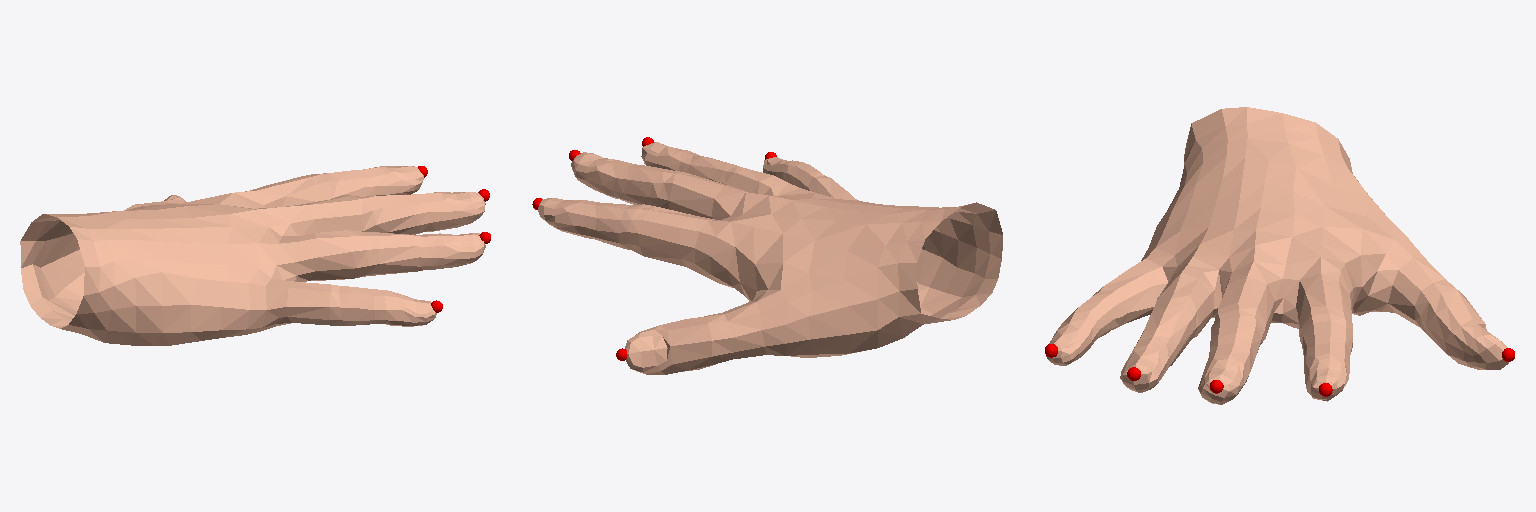
The robot description file, URDF, robot "mano_hand":
<?xml version='1.0' encoding='UTF-8'?>
<robot name="mano_hand">
  <material name="skin_color">
    <color rgba="0.95 0.75 0.65 1.0"/>
  </material>
  <material name="tip_marker_red">
    <color rgba="1.0 0.0 0.0 1.0"/>
  </material>
  <link name="base_link">
    <inertial>
      <origin xyz="0 0 0" rpy="0 0 0"/>
      <mass value="0.001"/>
      <inertia ixx="1e-6" ixy="0" ixz="0" iyy="1e-6" iyz="0" izz="1e-6"/>
    </inertial>
  </link>
  <joint name="ARTx" type="prismatic">
    <parent link="base_link"/>
    <child link="ARTx_link"/>
    <origin xyz="0 0 0" rpy="0 0 0"/>
    <axis xyz="1 0 0"/>
    <limit lower="-2.0" upper="2.0" effort="1000" velocity="100.0"/>
    <dynamics damping="1.0" friction="0.05"/>
  </joint>
  <link name="ARTx_link">
    <inertial>
      <origin xyz="0 0 0" rpy="0 0 0"/>
      <mass value="0.001"/>
      <inertia ixx="1e-6" ixy="0" ixz="0" iyy="1e-6" iyz="0" izz="1e-6"/>
    </inertial>
  </link>
  <joint name="ARTy" type="prismatic">
    <parent link="ARTx_link"/>
    <child link="ARTy_link"/>
    <origin xyz="0 0 0" rpy="0 0 0"/>
    <axis xyz="0 1 0"/>
    <limit lower="-2.0" upper="2.0" effort="1000" velocity="100.0"/>
    <dynamics damping="1.0" friction="0.05"/>
  </joint>
  <link name="ARTy_link">
    <inertial>
      <origin xyz="0 0 0" rpy="0 0 0"/>
      <mass value="0.001"/>
      <inertia ixx="1e-6" ixy="0" ixz="0" iyy="1e-6" iyz="0" izz="1e-6"/>
    </inertial>
  </link>
  <joint name="ARTz" type="prismatic">
    <parent link="ARTy_link"/>
    <child link="ARTz_link"/>
    <origin xyz="0 0 0" rpy="0 0 0"/>
    <axis xyz="0 0 1"/>
    <limit lower="-2.0" upper="2.0" effort="1000" velocity="100.0"/>
    <dynamics damping="1.0" friction="0.05"/>
  </joint>
  <link name="ARTz_link">
    <inertial>
      <origin xyz="0 0 0" rpy="0 0 0"/>
      <mass value="0.001"/>
      <inertia ixx="1e-6" ixy="0" ixz="0" iyy="1e-6" iyz="0" izz="1e-6"/>
    </inertial>
  </link>
  <joint name="ARRx" type="revolute">
    <parent link="ARTz_link"/>
    <child link="ARRx_link"/>
    <origin xyz="0 0 0" rpy="0 0 0"/>
    <axis xyz="1 0 0"/>
    <limit lower="-9.42478" upper="9.42478" effort="1000" velocity="100.0"/>
    <dynamics damping="1.0" friction="0.05"/>
  </joint>
  <link name="ARRx_link">
    <inertial>
      <origin xyz="0 0 0" rpy="0 0 0"/>
      <mass value="0.001"/>
      <inertia ixx="1e-6" ixy="0" ixz="0" iyy="1e-6" iyz="0" izz="1e-6"/>
    </inertial>
  </link>
  <joint name="ARRy" type="revolute">
    <parent link="ARRx_link"/>
    <child link="ARRy_link"/>
    <origin xyz="0 0 0" rpy="0 0 0"/>
    <axis xyz="0 1 0"/>
    <limit lower="-9.42478" upper="9.42478" effort="1000" velocity="100.0"/>
    <dynamics damping="1.0" friction="0.05"/>
  </joint>
  <link name="ARRy_link">
    <inertial>
      <origin xyz="0 0 0" rpy="0 0 0"/>
      <mass value="0.001"/>
      <inertia ixx="1e-6" ixy="0" ixz="0" iyy="1e-6" iyz="0" izz="1e-6"/>
    </inertial>
  </link>
  <joint name="ARRz" type="revolute">
    <parent link="ARRy_link"/>
    <child link="ARRz_link"/>
    <origin xyz="0 0 0" rpy="0 0 0"/>
    <axis xyz="0 0 1"/>
    <limit lower="-9.42478" upper="9.42478" effort="1000" velocity="100.0"/>
    <dynamics damping="1.0" friction="0.05"/>
  </joint>
  <link name="ARRz_link">
    <inertial>
      <origin xyz="0 0 0" rpy="0 0 0"/>
      <mass value="0.001"/>
      <inertia ixx="1e-6" ixy="0" ixz="0" iyy="1e-6" iyz="0" izz="1e-6"/>
    </inertial>
  </link>
  <joint name="palm_joint" type="fixed">
    <parent link="ARRz_link"/>
    <child link="palm"/>
    <origin xyz="0 0 0" rpy="1.5708 0 3.1416"/>
  </joint>
  <link name="palm">
    <inertial>
      <origin xyz="0 0 0" rpy="0 0 0"/>
      <mass value="0.02"/>
      <inertia ixx="1e-4" ixy="0" ixz="0" iyy="1e-4" iyz="0" izz="1e-4"/>
    </inertial>
    <visual>
      <geometry>
        <mesh filename="meshes/visual_palm.stl"/>
      </geometry>
      <material name="skin_color"/>
    </visual>
    <collision>
      <geometry>
        <mesh filename="meshes/palm.stl" scale="0.7 0.7 0.7"/>
      </geometry>
    </collision>
  </link>
  <joint name="j1_thumb_cmc_abd" type="revolute">
    <parent link="palm"/>
    <child link="thumb_cmc_abd"/>
    <origin xyz="-0.02393882 -0.015321283 0.025400128" rpy="0 0 0"/>
    <axis xyz="0.13214761 0.9558983 0.26228896"/>
    <limit lower="-1.175" upper="2.621" effort="100.0" velocity="100.0"/>
  </joint>
  <link name="thumb_cmc_abd">
    <inertial>
      <origin xyz="0 0 0" rpy="0 0 0"/>
      <mass value="0.001"/>
      <inertia ixx="1e-6" ixy="0" ixz="0" iyy="1e-6" iyz="0" izz="1e-6"/>
    </inertial>
  </link>
  <joint name="j1_thumb_cmc_flex" type="revolute">
    <parent link="thumb_cmc_abd"/>
    <child link="thumb_cmc"/>
    <origin xyz="0 0 0" rpy="0 0 0"/>
    <axis xyz="0.98433405 -0.15770914 0.07883098"/>
    <limit lower="-2.0" upper="1.97" effort="100.0" velocity="100.0"/>
  </joint>
  <link name="thumb_cmc">
    <inertial>
      <origin xyz="0 0 0" rpy="0 0 0"/>
      <mass value="0.01"/>
      <inertia ixx="1e-5" ixy="0" ixz="0" iyy="1e-5" iyz="0" izz="1e-5"/>
    </inertial>
    <visual>
      <geometry>
        <mesh filename="meshes/visual_thumb1.stl"/>
      </geometry>
      <material name="skin_color"/>
    </visual>
    <collision>
      <geometry>
        <mesh filename="meshes/thumb1.stl"/>
      </geometry>
    </collision>
  </link>
  <joint name="j1_thumb_mcp" type="revolute">
    <parent link="thumb_cmc"/>
    <child link="thumb_mcp"/>
    <origin xyz="-0.019642167 0.0007150201 0.023463652" rpy="0 0 0"/>
    <axis xyz="0.37349474660354226 -0.8767273735792721 0.30306894706707793"/>
    <limit lower="0.0" upper="1.745" effort="100.0" velocity="100.0"/>
  </joint>
  <link name="thumb_mcp">
    <inertial>
      <origin xyz="0 0 0" rpy="0 0 0"/>
      <mass value="0.01"/>
      <inertia ixx="1e-5" ixy="0" ixz="0" iyy="1e-5" iyz="0" izz="1e-5"/>
    </inertial>
    <visual>
      <geometry>
        <mesh filename="meshes/visual_thumb2.stl"/>
      </geometry>
      <material name="skin_color"/>
    </visual>
    <collision>
      <geometry>
        <mesh filename="meshes/thumb2.stl"/>
      </geometry>
    </collision>
  </link>
  <joint name="j1_thumb_ip" type="revolute">
    <parent link="thumb_mcp"/>
    <child link="thumb_ip"/>
    <origin xyz="-0.02210306 -0.0053673424 0.0145237595" rpy="0 0 0"/>
    <axis xyz="0.37349474660354226 -0.8767273735792721 0.30306894706707793"/>
    <limit lower="0.0" upper="1.745" effort="100.0" velocity="100.0"/>
  </joint>
  <link name="thumb_ip">
    <inertial>
      <origin xyz="0 0 0" rpy="0 0 0"/>
      <mass value="0.01"/>
      <inertia ixx="1e-5" ixy="0" ixz="0" iyy="1e-5" iyz="0" izz="1e-5"/>
    </inertial>
    <visual>
      <geometry>
        <mesh filename="meshes/visual_thumb3.stl"/>
      </geometry>
      <material name="skin_color"/>
    </visual>
    <visual>
      <origin xyz="-0.0259852111 -0.00269475952 0.0237645283" rpy="0 0 0"/>
      <geometry>
        <sphere radius="0.0025"/>
      </geometry>
      <material name="tip_marker_red"/>
    </visual>
    <collision>
      <geometry>
        <mesh filename="meshes/thumb3.stl"/>
      </geometry>
    </collision>
  </link>
  <joint name="j2_index_mcp_abd" type="revolute">
    <parent link="palm"/>
    <child link="index_mcp_abd"/>
    <origin xyz="-0.087390065 -0.00515518 0.020318598" rpy="0 0 0"/>
    <axis xyz="0.056868146016383125 -0.9983816975328921 0.0"/>
    <limit lower="-0.349" upper="0.349" effort="100.0" velocity="100.0"/>
  </joint>
  <link name="index_mcp_abd">
    <inertial>
      <origin xyz="0 0 0" rpy="0 0 0"/>
      <mass value="0.001"/>
      <inertia ixx="1e-6" ixy="0" ixz="0" iyy="1e-6" iyz="0" izz="1e-6"/>
    </inertial>
  </link>
  <joint name="j2_index_mcp_flex" type="revolute">
    <parent link="index_mcp_abd"/>
    <child link="index_mcp"/>
    <origin xyz="0 0 0" rpy="0 0 0"/>
    <axis xyz="-0.0030011760820092275 -0.00017094796516635316 0.9999954818492521"/>
    <limit lower="-0.175" upper="1.571" effort="100.0" velocity="100.0"/>
  </joint>
  <link name="index_mcp">
    <inertial>
      <origin xyz="0 0 0" rpy="0 0 0"/>
      <mass value="0.01"/>
      <inertia ixx="1e-5" ixy="0" ixz="0" iyy="1e-5" iyz="0" izz="1e-5"/>
    </inertial>
    <visual>
      <geometry>
        <mesh filename="meshes/visual_index1.stl"/>
      </geometry>
      <material name="skin_color"/>
    </visual>
    <collision>
      <geometry>
        <mesh filename="meshes/index1.stl"/>
      </geometry>
    </collision>
  </link>
  <joint name="j2_index_pip" type="revolute">
    <parent link="index_mcp"/>
    <child link="index_pip"/>
    <origin xyz="-0.032553315 0.0040858695 0.002195783" rpy="0 0 0"/>
    <axis xyz="-0.0030011760820092275 -0.00017094796516635316 0.9999954818492521"/>
    <limit lower="0.0" upper="1.745" effort="100.0" velocity="100.0"/>
  </joint>
  <link name="index_pip">
    <inertial>
      <origin xyz="0 0 0" rpy="0 0 0"/>
      <mass value="0.01"/>
      <inertia ixx="1e-5" ixy="0" ixz="0" iyy="1e-5" iyz="0" izz="1e-5"/>
    </inertial>
    <visual>
      <geometry>
        <mesh filename="meshes/visual_index2.stl"/>
      </geometry>
      <material name="skin_color"/>
    </visual>
    <collision>
      <geometry>
        <mesh filename="meshes/index2.stl"/>
      </geometry>
    </collision>
  </link>
  <joint name="j2_index_dip" type="revolute">
    <parent link="index_pip"/>
    <child link="index_dip"/>
    <origin xyz="-0.022098027 -0.0012587109 -6.653555e-05" rpy="0 0 0"/>
    <axis xyz="-0.0030011760820092275 -0.00017094796516635316 0.9999954818492521"/>
    <limit lower="0.0" upper="1.745" effort="100.0" velocity="100.0"/>
  </joint>
  <link name="index_dip">
    <inertial>
      <origin xyz="0 0 0" rpy="0 0 0"/>
      <mass value="0.01"/>
      <inertia ixx="1e-5" ixy="0" ixz="0" iyy="1e-5" iyz="0" izz="1e-5"/>
    </inertial>
    <visual>
      <geometry>
        <mesh filename="meshes/visual_index3.stl"/>
      </geometry>
      <material name="skin_color"/>
    </visual>
    <visual>
      <origin xyz="-0.0254385844 0.00128195668 -0.000492764637" rpy="0 0 0"/>
      <geometry>
        <sphere radius="0.0025"/>
      </geometry>
      <material name="tip_marker_red"/>
    </visual>
    <collision>
      <geometry>
        <mesh filename="meshes/index3.stl"/>
      </geometry>
    </collision>
  </link>
  <joint name="j3_middle_mcp_abd" type="revolute">
    <parent link="palm"/>
    <child link="middle_mcp_abd"/>
    <origin xyz="-0.093885034 -0.0015335456 -0.003394617" rpy="0 0 0"/>
    <axis xyz="0.0558525 -0.9982943 -0.017003164"/>
    <limit lower="-0.524" upper="0.349" effort="100.0" velocity="100.0"/>
  </joint>
  <link name="middle_mcp_abd">
    <inertial>
      <origin xyz="0 0 0" rpy="0 0 0"/>
      <mass value="0.001"/>
      <inertia ixx="1e-6" ixy="0" ixz="0" iyy="1e-6" iyz="0" izz="1e-6"/>
    </inertial>
  </link>
  <joint name="j3_middle_mcp_flex" type="revolute">
    <parent link="middle_mcp_abd"/>
    <child link="middle_mcp"/>
    <origin xyz="0 0 0" rpy="0 0 0"/>
    <axis xyz="-0.16552447 -0.026052156 0.98586154"/>
    <limit lower="-0.175" upper="1.571" effort="100.0" velocity="100.0"/>
  </joint>
  <link name="middle_mcp">
    <inertial>
      <origin xyz="0 0 0" rpy="0 0 0"/>
      <mass value="0.01"/>
      <inertia ixx="1e-5" ixy="0" ixz="0" iyy="1e-5" iyz="0" izz="1e-5"/>
    </inertial>
    <visual>
      <geometry>
        <mesh filename="meshes/visual_middle1.stl"/>
      </geometry>
      <material name="skin_color"/>
    </visual>
    <collision>
      <geometry>
        <mesh filename="meshes/middle1.stl"/>
      </geometry>
    </collision>
  </link>
  <joint name="j3_middle_pip" type="revolute">
    <parent link="middle_mcp"/>
    <child link="middle_pip"/>
    <origin xyz="-0.03103862 0.0018664142 -0.0055207517" rpy="0 0 0"/>
    <axis xyz="-0.16552447 -0.026052156 0.98586154"/>
    <limit lower="0.0" upper="1.745" effort="100.0" velocity="100.0"/>
  </joint>
  <link name="middle_pip">
    <inertial>
      <origin xyz="0 0 0" rpy="0 0 0"/>
      <mass value="0.01"/>
      <inertia ixx="1e-5" ixy="0" ixz="0" iyy="1e-5" iyz="0" izz="1e-5"/>
    </inertial>
    <visual>
      <geometry>
        <mesh filename="meshes/visual_middle2.stl"/>
      </geometry>
      <material name="skin_color"/>
    </visual>
    <collision>
      <geometry>
        <mesh filename="meshes/middle2.stl"/>
      </geometry>
    </collision>
  </link>
  <joint name="j3_middle_dip" type="revolute">
    <parent link="middle_pip"/>
    <child link="middle_dip"/>
    <origin xyz="-0.02283096 -0.0012115105 -0.003865294" rpy="0 0 0"/>
    <axis xyz="-0.16552447 -0.026052156 0.98586154"/>
    <limit lower="0.0" upper="1.745" effort="100.0" velocity="100.0"/>
  </joint>
  <link name="middle_dip">
    <inertial>
      <origin xyz="0 0 0" rpy="0 0 0"/>
      <mass value="0.01"/>
      <inertia ixx="1e-5" ixy="0" ixz="0" iyy="1e-5" iyz="0" izz="1e-5"/>
    </inertial>
    <visual>
      <geometry>
        <mesh filename="meshes/visual_middle3.stl"/>
      </geometry>
      <material name="skin_color"/>
    </visual>
    <visual>
      <origin xyz="-0.0256282948 0.00384644186 -0.00410285778" rpy="0 0 0"/>
      <geometry>
        <sphere radius="0.0025"/>
      </geometry>
      <material name="tip_marker_red"/>
    </visual>
    <collision>
      <geometry>
        <mesh filename="meshes/middle3.stl"/>
      </geometry>
    </collision>
  </link>
  <joint name="j4_ring_mcp_abd" type="revolute">
    <parent link="palm"/>
    <child link="ring_mcp_abd"/>
    <origin xyz="-0.081061505 -0.00400615 -0.026355308" rpy="0 0 0"/>
    <axis xyz="0.029911317 -0.99189115 0.12352082"/>
    <limit lower="-0.524" upper="0.349" effort="100.0" velocity="100.0"/>
  </joint>
  <link name="ring_mcp_abd">
    <inertial>
      <origin xyz="0 0 0" rpy="0 0 0"/>
      <mass value="0.001"/>
      <inertia ixx="1e-6" ixy="0" ixz="0" iyy="1e-6" iyz="0" izz="1e-6"/>
    </inertial>
  </link>
  <joint name="j4_ring_mcp_flex" type="revolute">
    <parent link="ring_mcp_abd"/>
    <child link="ring_mcp"/>
    <origin xyz="0 0 0" rpy="0 0 0"/>
    <axis xyz="-0.31203434 0.10813442 0.943897"/>
    <limit lower="-0.175" upper="1.571" effort="100.0" velocity="100.0"/>
  </joint>
  <link name="ring_mcp">
    <inertial>
      <origin xyz="0 0 0" rpy="0 0 0"/>
      <mass value="0.01"/>
      <inertia ixx="1e-5" ixy="0" ixz="0" iyy="1e-5" iyz="0" izz="1e-5"/>
    </inertial>
    <visual>
      <geometry>
        <mesh filename="meshes/visual_ring1.stl"/>
      </geometry>
      <material name="skin_color"/>
    </visual>
    <collision>
      <geometry>
        <mesh filename="meshes/ring1.stl"/>
      </geometry>
    </collision>
  </link>
  <joint name="j4_ring_pip" type="revolute">
    <parent link="ring_mcp"/>
    <child link="ring_pip"/>
    <origin xyz="-0.028162489 0.0020270143 -0.0050798096" rpy="0 0 0"/>
    <axis xyz="-0.31203434 0.10813442 0.943897"/>
    <limit lower="0.0" upper="1.745" effort="100.0" velocity="100.0"/>
  </joint>
  <link name="ring_pip">
    <inertial>
      <origin xyz="0 0 0" rpy="0 0 0"/>
      <mass value="0.01"/>
      <inertia ixx="1e-5" ixy="0" ixz="0" iyy="1e-5" iyz="0" izz="1e-5"/>
    </inertial>
    <visual>
      <geometry>
        <mesh filename="meshes/visual_ring2.stl"/>
      </geometry>
      <material name="skin_color"/>
    </visual>
    <collision>
      <geometry>
        <mesh filename="meshes/ring2.stl"/>
      </geometry>
    </collision>
  </link>
  <joint name="j4_ring_dip" type="revolute">
    <parent link="ring_pip"/>
    <child link="ring_dip"/>
    <origin xyz="-0.023458725 -0.0016496193 -0.0075660236" rpy="0 0 0"/>
    <axis xyz="-0.31203434 0.10813442 0.943897"/>
    <limit lower="0.0" upper="1.745" effort="100.0" velocity="100.0"/>
  </joint>
  <link name="ring_dip">
    <inertial>
      <origin xyz="0 0 0" rpy="0 0 0"/>
      <mass value="0.01"/>
      <inertia ixx="1e-5" ixy="0" ixz="0" iyy="1e-5" iyz="0" izz="1e-5"/>
    </inertial>
    <visual>
      <geometry>
        <mesh filename="meshes/visual_ring3.stl"/>
      </geometry>
      <material name="skin_color"/>
    </visual>
    <visual>
      <origin xyz="-0.0243661776 0.00387226394 -0.00732583553" rpy="0 0 0"/>
      <geometry>
        <sphere radius="0.0025"/>
      </geometry>
      <material name="tip_marker_red"/>
    </visual>
    <collision>
      <geometry>
        <mesh filename="meshes/ring3.stl"/>
      </geometry>
    </collision>
  </link>
  <joint name="j5_pinky_mcp_abd" type="revolute">
    <parent link="palm"/>
    <child link="pinky_mcp_abd"/>
    <origin xyz="-0.06825912 -0.009817436 -0.04267642" rpy="0 0 0"/>
    <axis xyz="-0.12065165 -0.9613095 0.24764341"/>
    <limit lower="-0.698" upper="0.349" effort="100.0" velocity="100.0"/>
  </joint>
  <link name="pinky_mcp_abd">
    <inertial>
      <origin xyz="0 0 0" rpy="0 0 0"/>
      <mass value="0.001"/>
      <inertia ixx="1e-6" ixy="0" ixz="0" iyy="1e-6" iyz="0" izz="1e-6"/>
    </inertial>
  </link>
  <joint name="j5_pinky_mcp_flex" type="revolute">
    <parent link="pinky_mcp_abd"/>
    <child link="pinky_mcp"/>
    <origin xyz="0 0 0" rpy="0 0 0"/>
    <axis xyz="-0.5342949 0.27313465 0.79995406"/>
    <limit lower="-0.175" upper="1.571" effort="100.0" velocity="100.0"/>
  </joint>
  <link name="pinky_mcp">
    <inertial>
      <origin xyz="0 0 0" rpy="0 0 0"/>
      <mass value="0.01"/>
      <inertia ixx="1e-5" ixy="0" ixz="0" iyy="1e-5" iyz="0" izz="1e-5"/>
    </inertial>
    <visual>
      <geometry>
        <mesh filename="meshes/visual_pinky1.stl"/>
      </geometry>
      <material name="skin_color"/>
    </visual>
    <collision>
      <geometry>
        <mesh filename="meshes/pinky1.stl"/>
      </geometry>
    </collision>
  </link>
  <joint name="j5_pinky_pip" type="revolute">
    <parent link="pinky_mcp"/>
    <child link="pinky_pip"/>
    <origin xyz="-0.016888633 0.00015343493 -0.012444343" rpy="0 0 0"/>
    <axis xyz="-0.5342949 0.27313465 0.79995406"/>
    <limit lower="0.0" upper="1.745" effort="100.0" velocity="100.0"/>
  </joint>
  <link name="pinky_pip">
    <inertial>
      <origin xyz="0 0 0" rpy="0 0 0"/>
      <mass value="0.01"/>
      <inertia ixx="1e-5" ixy="0" ixz="0" iyy="1e-5" iyz="0" izz="1e-5"/>
    </inertial>
    <visual>
      <geometry>
        <mesh filename="meshes/visual_pinky2.stl"/>
      </geometry>
      <material name="skin_color"/>
    </visual>
    <collision>
      <geometry>
        <mesh filename="meshes/pinky2.stl"/>
      </geometry>
    </collision>
  </link>
  <joint name="j5_pinky_dip" type="revolute">
    <parent link="pinky_pip"/>
    <child link="pinky_dip"/>
    <origin xyz="-0.015772328 -0.0006748764 -0.010304019" rpy="0 0 0"/>
    <axis xyz="-0.5342949 0.27313465 0.79995406"/>
    <limit lower="0.0" upper="1.745" effort="100.0" velocity="100.0"/>
  </joint>
  <link name="pinky_dip">
    <inertial>
      <origin xyz="0 0 0" rpy="0 0 0"/>
      <mass value="0.01"/>
      <inertia ixx="1e-5" ixy="0" ixz="0" iyy="1e-5" iyz="0" izz="1e-5"/>
    </inertial>
    <visual>
      <geometry>
        <mesh filename="meshes/visual_pinky3.stl"/>
      </geometry>
      <material name="skin_color"/>
    </visual>
    <visual>
      <origin xyz="-0.0170507431 0.00156009989 -0.0103180707" rpy="0 0 0"/>
      <geometry>
        <sphere radius="0.0025"/>
      </geometry>
      <material name="tip_marker_red"/>
    </visual>
    <collision>
      <geometry>
        <mesh filename="meshes/pinky3.stl"/>
      </geometry>
    </collision>
  </link>
</robot>

--- What the picture shows (computed from the rendered views, not written in the file) ---
The picture shows the robot from 3 angles, left to right: view 1: azimuth 30°, elevation 25°; view 2: azimuth 150°, elevation 25°; view 3: azimuth 270°, elevation 25°; orthographic projection.
Model mano_hand with 28 links and 27 joints (23 revolute, 3 prismatic, 1 fixed), rooted at base_link, posed every joint at zero.
Visible links, largest first — view 1: palm, ring_mcp, middle_mcp, pinky_mcp, ring_pip, thumb_cmc, middle_dip, middle_pip, ring_dip, index_mcp, pinky_pip, index_dip (+2 smaller); view 2: palm, thumb_cmc, thumb_mcp, thumb_ip, index_mcp, middle_mcp, index_pip, middle_dip, index_dip, middle_pip, ring_mcp, ring_dip (+3 smaller); view 3: palm, thumb_ip, thumb_mcp, middle_mcp, ring_mcp, index_mcp, middle_dip, index_dip, pinky_mcp, ring_pip, ring_dip, pinky_dip (+3 smaller).
Boxes of the visible links, box(x1,y1,x2,y2) form: palm: box(20, 191, 296, 345); ring_mcp: box(277, 230, 365, 281); middle_mcp: box(279, 196, 381, 235); pinky_mcp: box(266, 278, 343, 325); ring_pip: box(356, 231, 431, 277); thumb_cmc: box(41, 228, 84, 310); middle_dip: box(415, 189, 489, 231); middle_pip: box(373, 194, 430, 234); ring_dip: box(422, 232, 490, 269); index_mcp: box(245, 174, 332, 207); pinky_pip: box(333, 285, 396, 325); index_dip: box(362, 166, 427, 195); palm: box(695, 188, 1002, 347); thumb_cmc: box(781, 274, 877, 357); thumb_mcp: box(707, 290, 787, 364); thumb_ip: box(616, 316, 714, 374); index_mcp: box(628, 204, 715, 274); middle_mcp: box(650, 172, 748, 219); index_pip: box(581, 203, 643, 250); middle_dip: box(569, 150, 633, 198); index_dip: box(532, 198, 599, 237); middle_pip: box(608, 164, 679, 206); ring_mcp: box(725, 166, 799, 195); ring_dip: box(641, 137, 699, 170); palm: box(1131, 107, 1393, 327); thumb_ip: box(1421, 289, 1514, 369); thumb_mcp: box(1368, 236, 1455, 333); middle_mcp: box(1211, 261, 1295, 343); ring_mcp: box(1155, 257, 1223, 338); index_mcp: box(1283, 271, 1352, 341); middle_dip: box(1198, 343, 1251, 404); index_dip: box(1304, 342, 1349, 401); pinky_mcp: box(1093, 267, 1167, 329); ring_pip: box(1134, 299, 1196, 365); ring_dip: box(1120, 336, 1172, 392); pinky_dip: box(1045, 314, 1095, 365).
Bounding box of the posed robot: 0.1941 × 0.1679 × 0.0607 m (x, y, z).
Meshes: 16 distinct files referenced, 16 mesh visuals loaded (16 binary STL).
